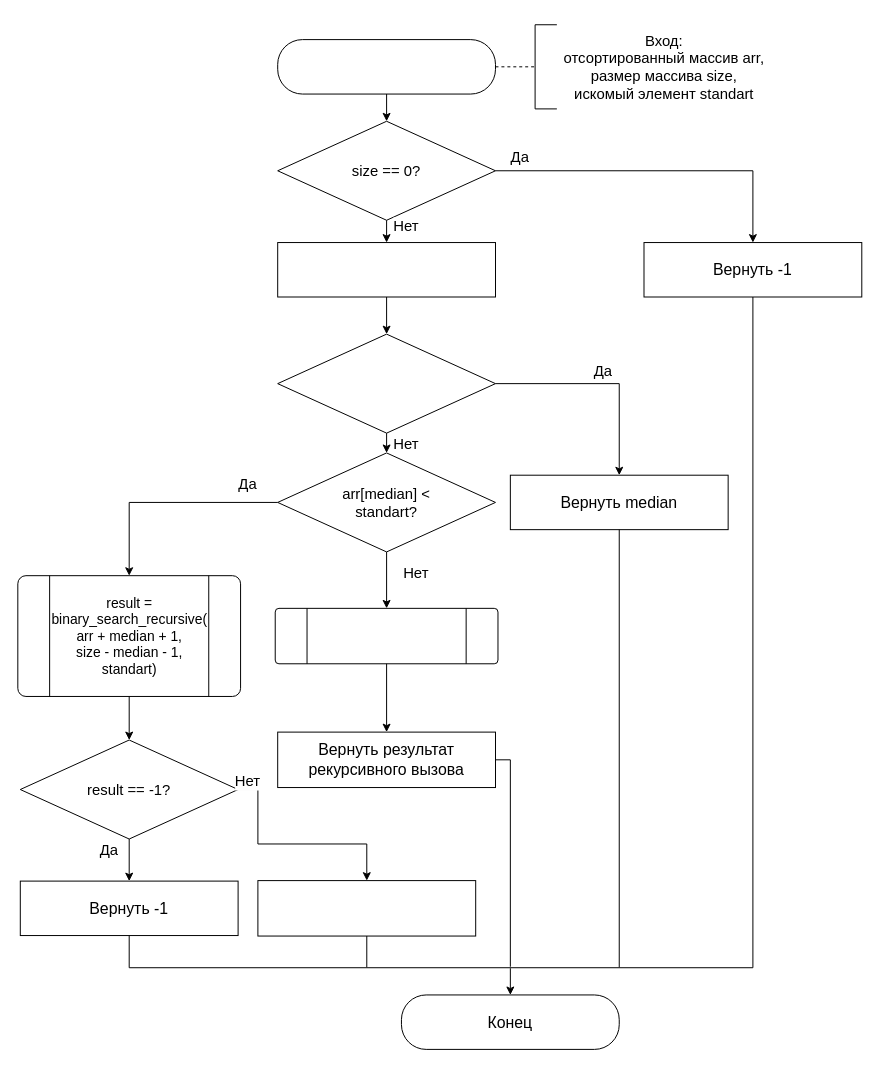
Some shapes in this 879 by 1066 pixel diagram are drawn without their labels. The centre of each missing label's shape, as x and y in pixels:
arr[median] == standart?: pixel 386 383
binary_search_recursive( arr, median, standart): pixel 386 635
median = size / 2: pixel 386 269
Вернуть median + 1 + result: pixel 366 908
Начало: pixel 386 66
